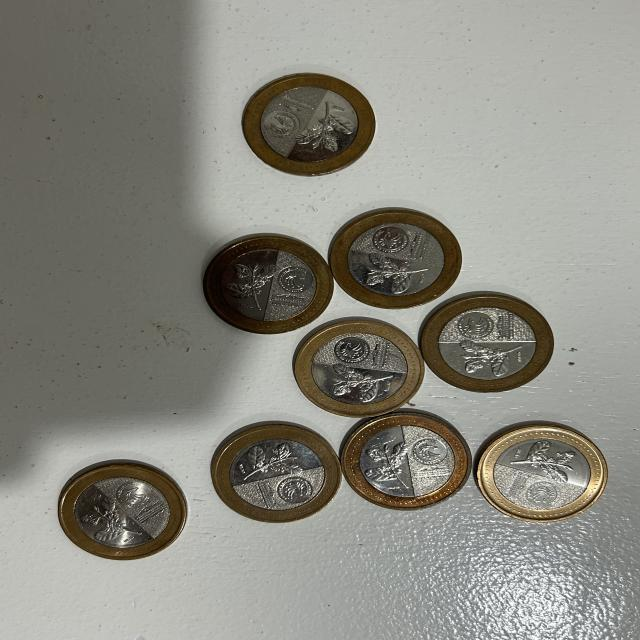20_New_Back: (74, 498, 142, 544), (356, 253, 428, 295), (513, 439, 580, 483), (296, 103, 356, 152), (450, 341, 528, 377), (234, 441, 304, 479), (367, 441, 417, 490), (225, 258, 272, 306), (333, 365, 392, 401)
